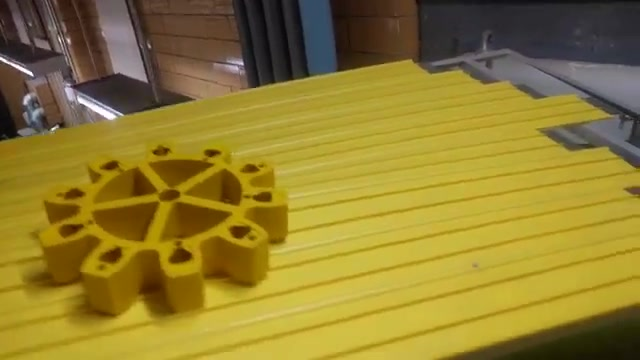gear: (26, 136, 301, 321)
